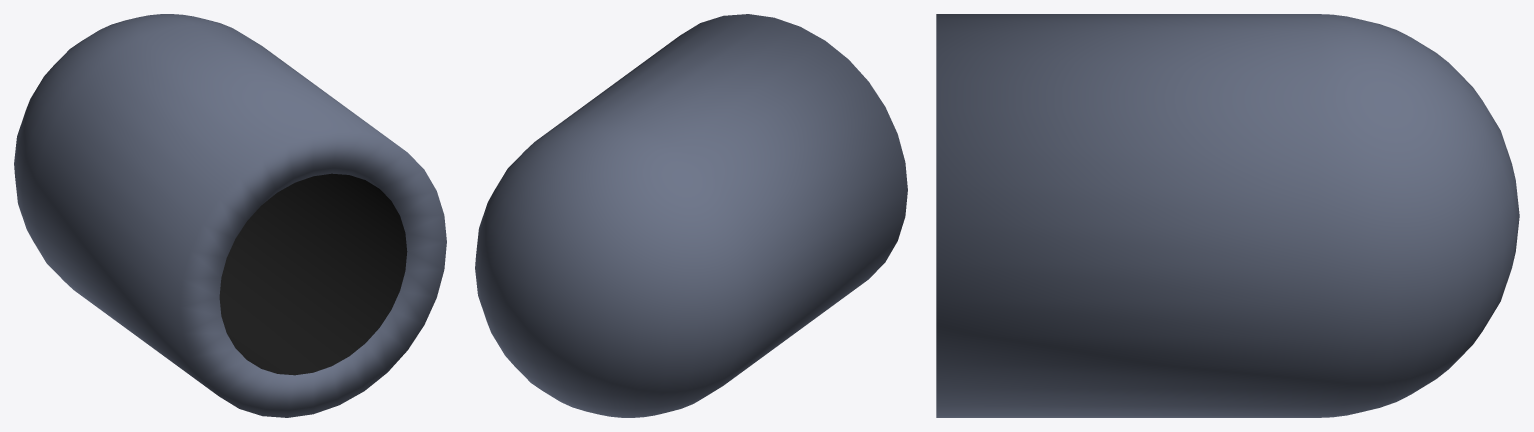
File: canon.fbx
The picture shows the model from 3 angles, left to right: view 1: azimuth 30°, elevation 25°; view 2: azimuth 150°, elevation 25°; view 3: azimuth 270°, elevation 25°; orthographic projection. The views are drawn at different scales.
Visible parts, largest first — view 1: Sphere; view 2: Sphere; view 3: Sphere.
Part boxes in pixels (left/top/right/bottom): Sphere: left=14, top=14, right=446, bottom=417; Sphere: left=475, top=14, right=907, bottom=417; Sphere: left=936, top=14, right=1519, bottom=417.
Bounding box in the file's own units: 200 × 200 × 289.
